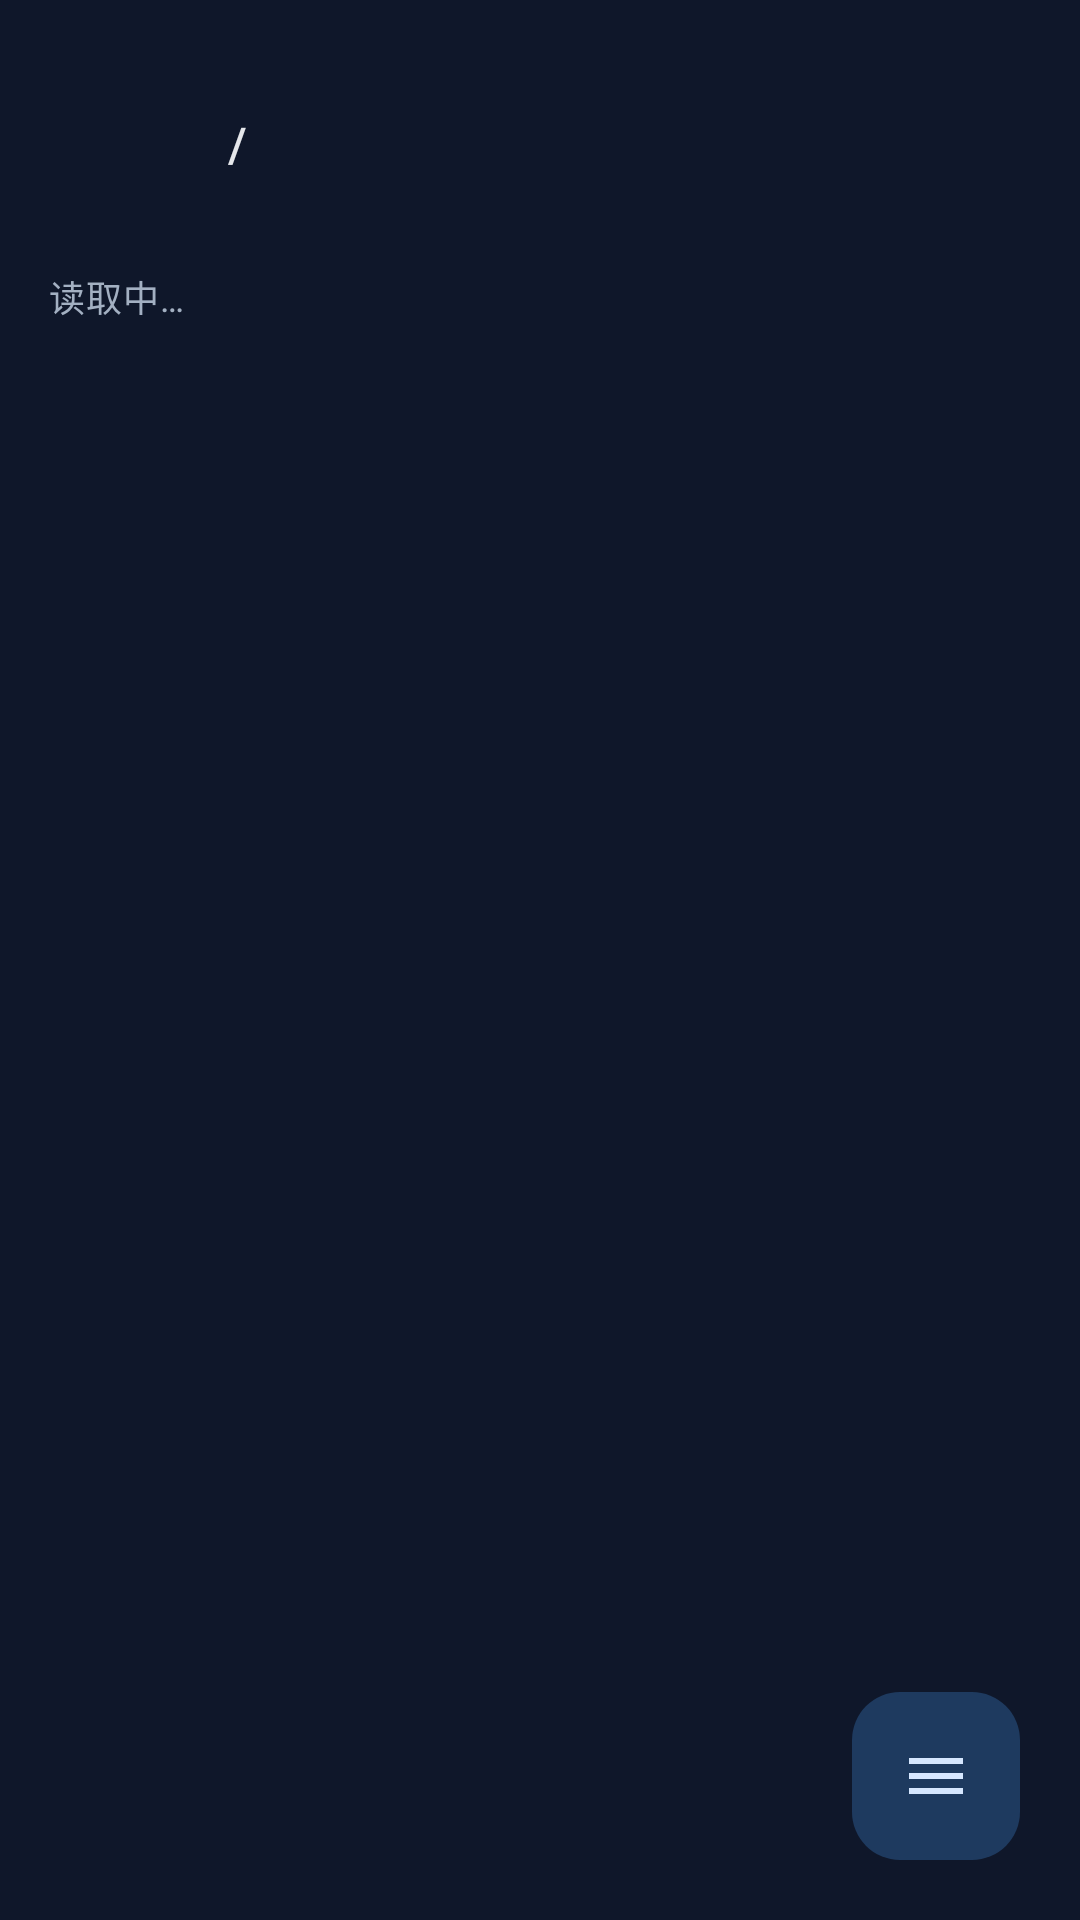

Icons on this 1080x1920 Android screen, each with its box as (x1, y1, x2, y2):
更多操作: (852, 1692, 1020, 1860)
